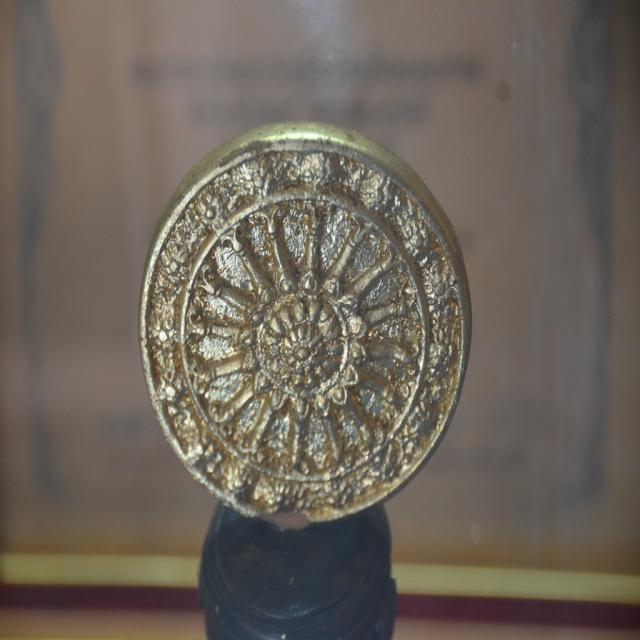Coin: (138, 115, 472, 526)
